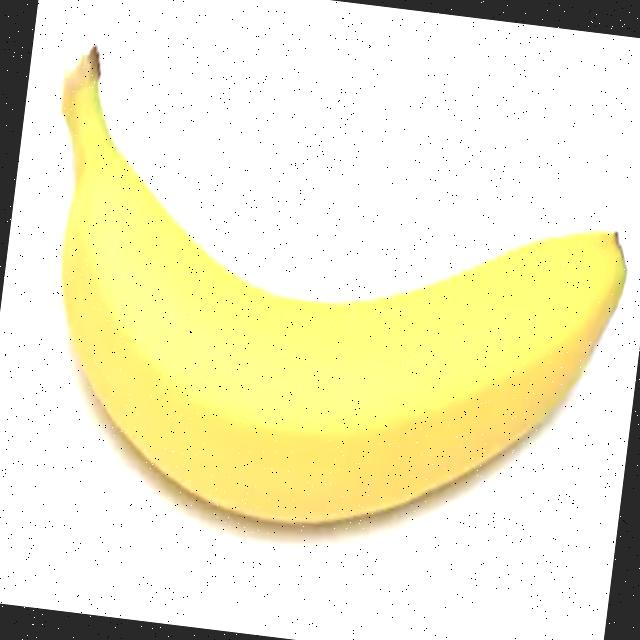banana: (9, 36, 640, 562)
